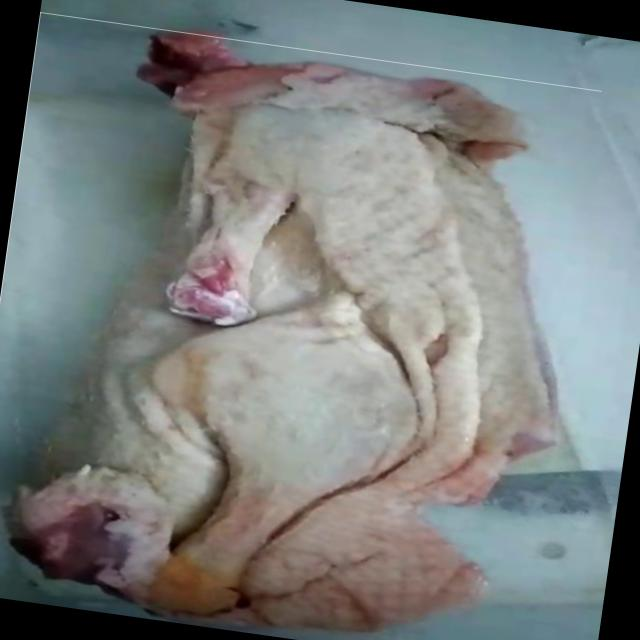chicken: (0, 12, 601, 640)
